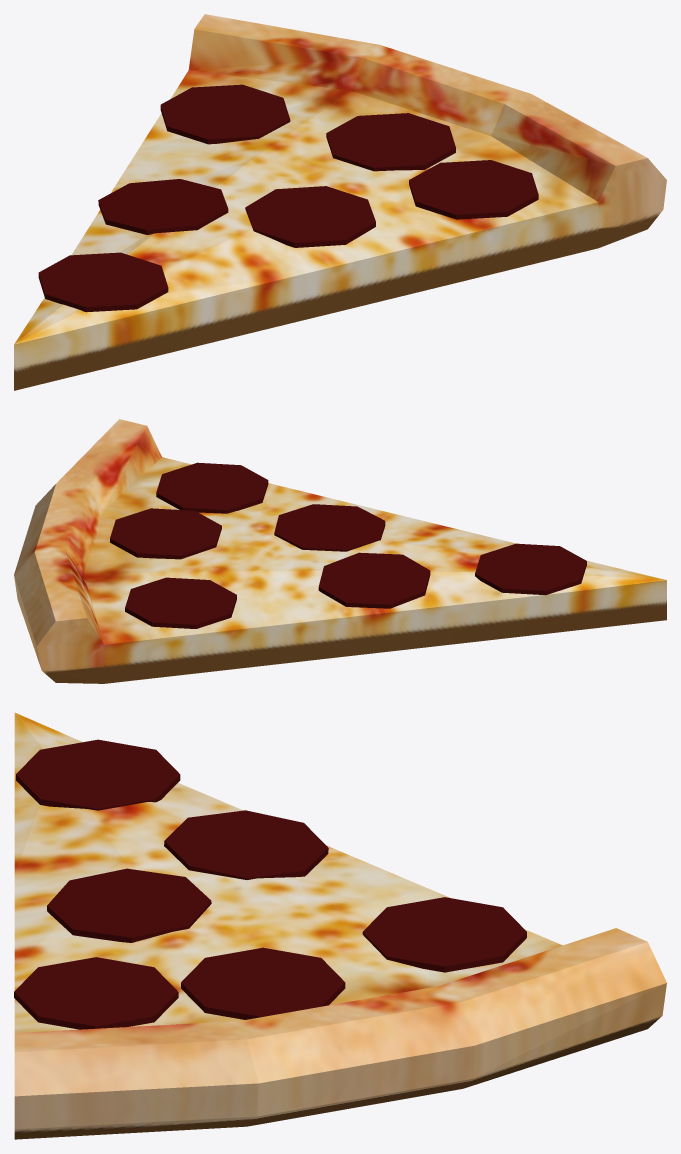
Rendered from pizza.obj.
3 views of the same model, one above another, from view 1: azimuth 30°, elevation 25°; view 2: azimuth 150°, elevation 25°; view 3: azimuth 270°, elevation 25° (orthographic). The views are drawn at different scales.
Size of the model in its own units: 2.66 by 0.3048 by 1.88.
Materials: 2 (1 with a texture image).
